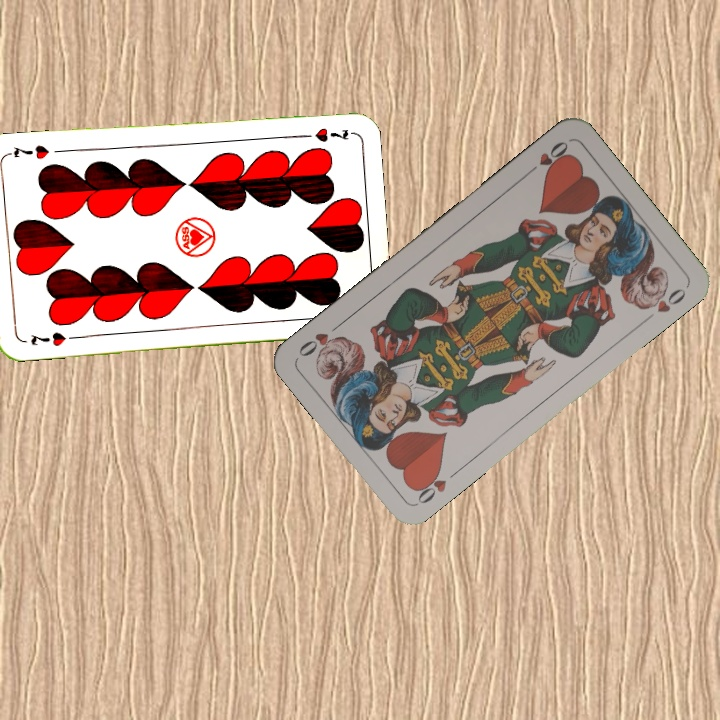H7: (295, 123, 354, 145), (26, 328, 78, 349)
HO: (409, 464, 462, 507), (521, 137, 572, 179)
